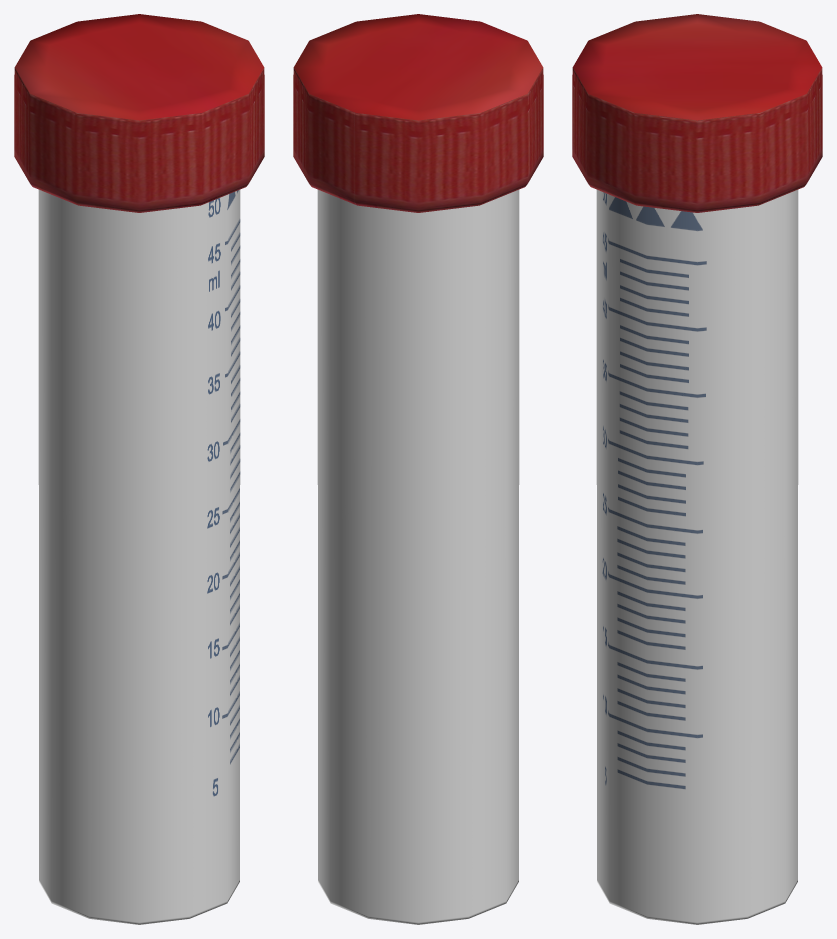
The picture shows the model from 3 angles, left to right: view 1: azimuth 30°, elevation 25°; view 2: azimuth 150°, elevation 25°; view 3: azimuth 270°, elevation 25°; orthographic projection.
Parts seen in each view (by area): view 1: Tube, cap; view 2: Tube, cap; view 3: Tube, cap.
Boxes of the visible parts, x1,y1,x2,y2 form: Tube: (38, 189, 240, 924); cap: (14, 14, 264, 212); Tube: (317, 189, 519, 924); cap: (293, 14, 543, 212); Tube: (596, 189, 798, 924); cap: (572, 14, 822, 212).
Bounding box in the file's own units: 0.039 × 0.1388 × 0.0386.
Materials: 2 (2 with a texture image).
